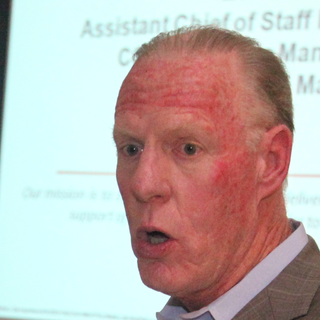eye: (168, 138, 210, 162), (116, 139, 146, 159)
